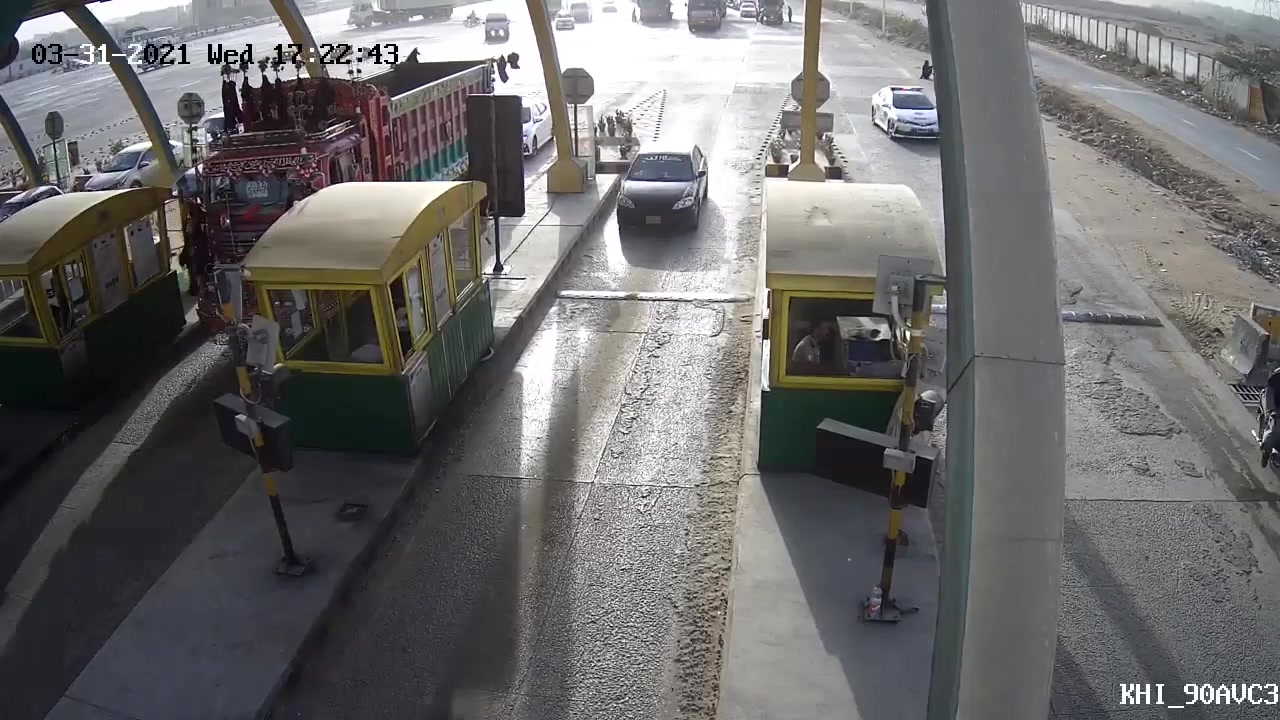F1: (595, 134, 713, 248)
